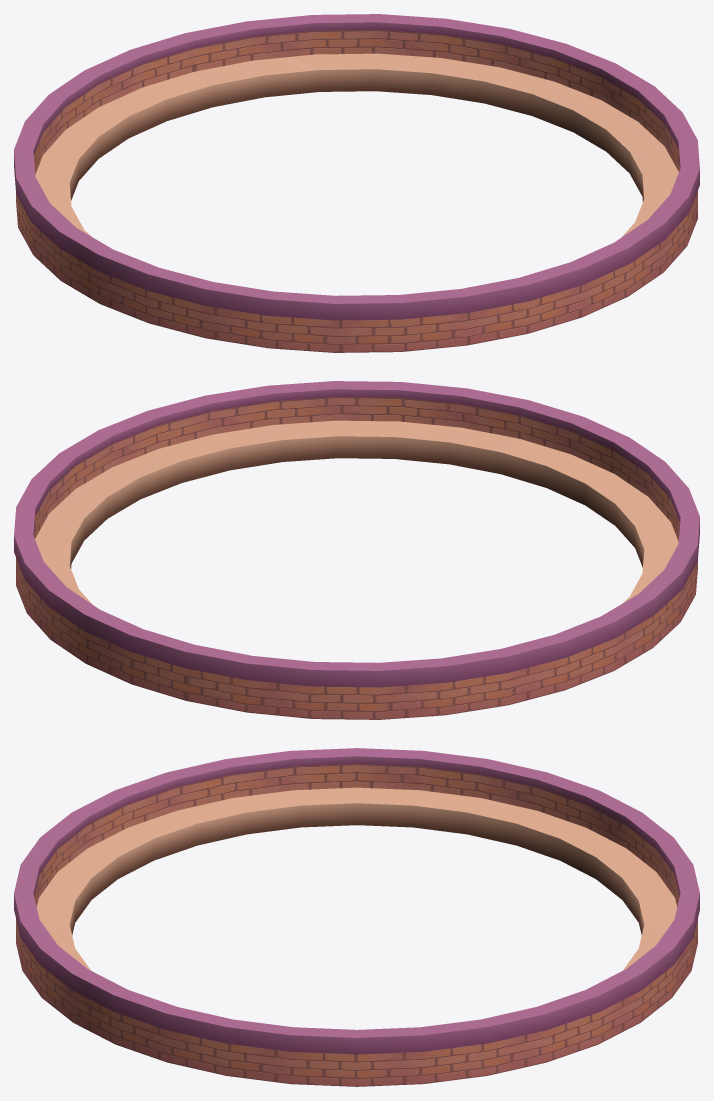
File: OuterWalls.glb
The picture shows the model from 3 angles, top to bottom: view 1: azimuth 30°, elevation 25°; view 2: azimuth 150°, elevation 25°; view 3: azimuth 270°, elevation 25°; orthographic projection.
Parts seen in each view (by area): view 1: OuterWalls; view 2: OuterWalls; view 3: OuterWalls.
Boxes of the visible parts, x1,y1,x2,y2 form: OuterWalls: (14, 14, 699, 352); OuterWalls: (14, 381, 699, 719); OuterWalls: (14, 748, 699, 1086).
Size of what is drawn, in the model's own units: 45.03 by 3.88 by 45.03.
2 materials, 2 textured.
